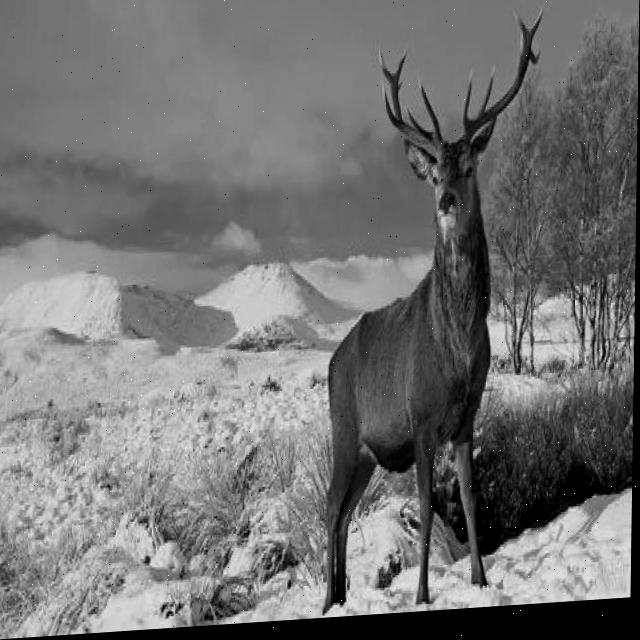Deer: (278, 75, 503, 558)
